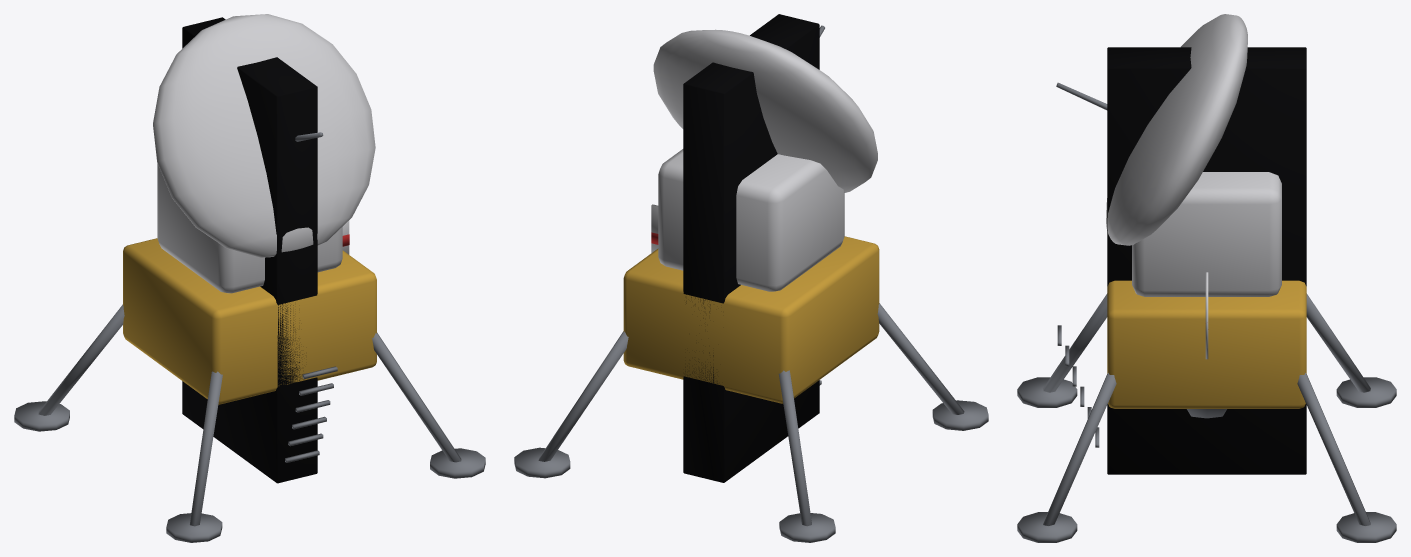
File: moonbase.glb
3 views of the same model, side by side, from view 1: azimuth 30°, elevation 25°; view 2: azimuth 150°, elevation 25°; view 3: azimuth 270°, elevation 25° (orthographic). The views are drawn at different scales.
Parts seen in each view (by area): view 1: Lander, Dish, Monolith; view 2: Lander, Monolith, Dish; view 3: Lander, Monolith, Dish.
Part boxes in pixels (left/top/right/bottom): Lander: left=14, top=163, right=485, bottom=542; Dish: left=153, top=14, right=375, bottom=257; Monolith: left=182, top=17, right=317, bottom=483; Lander: left=514, top=149, right=988, bottom=542; Monolith: left=683, top=14, right=819, bottom=482; Dish: left=653, top=25, right=877, bottom=192; Lander: left=1017, top=172, right=1396, bottom=542; Monolith: left=1107, top=47, right=1306, bottom=474; Dish: left=1056, top=14, right=1247, bottom=245.
Size of the model in its own units: 7.54 by 9.65 by 7.6.
